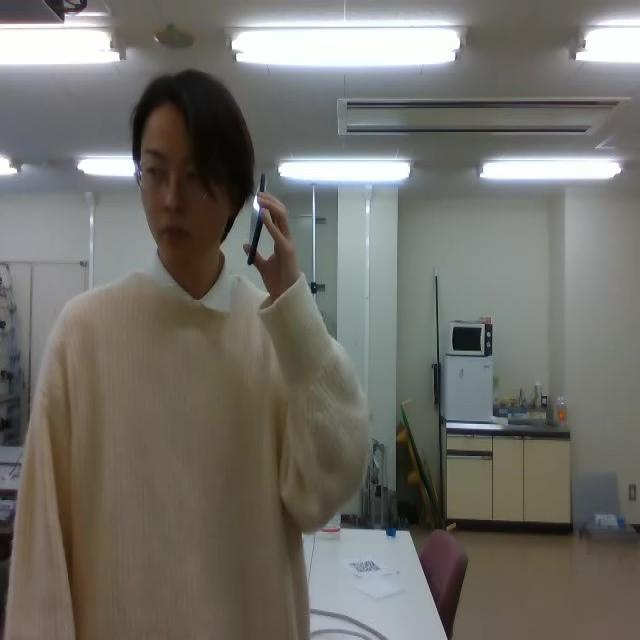Phone: (246, 170, 269, 266)
